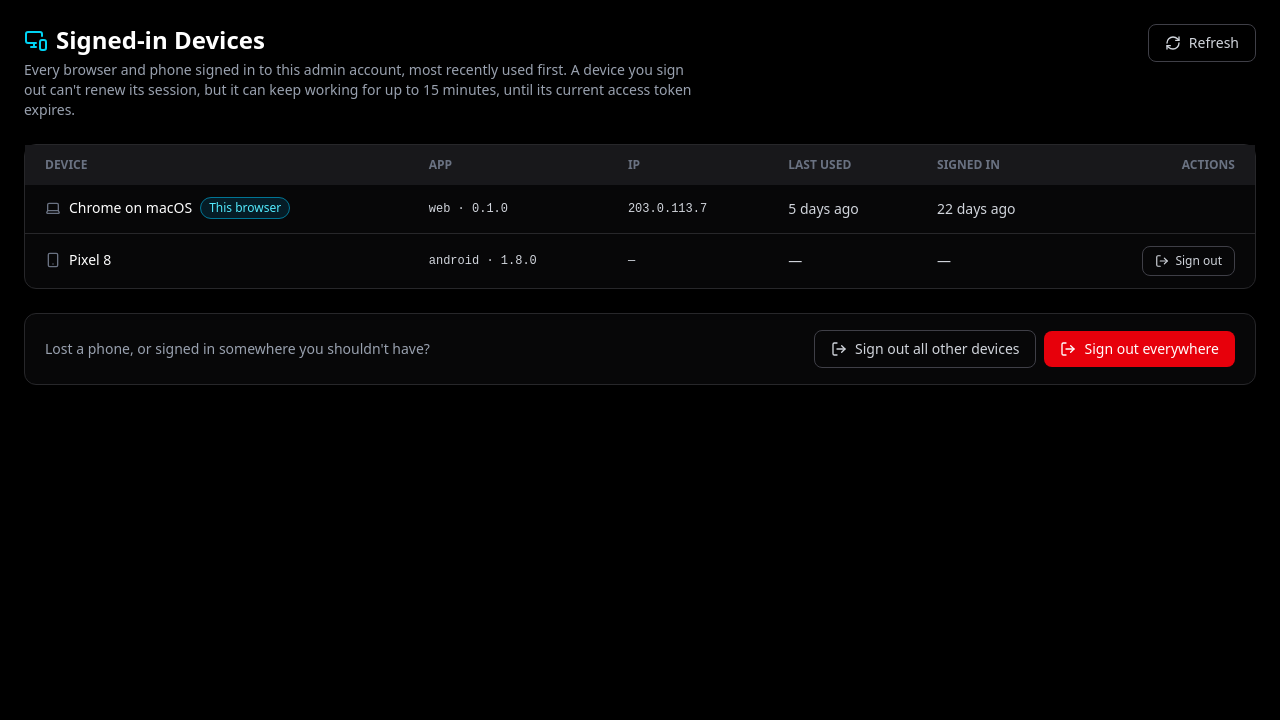
Test case: DevicesSection › can back out of signing a device out
Click the button with aria-label "Sign out Pixel 8".
click(1189, 261)  # box [1142,246,1235,276]
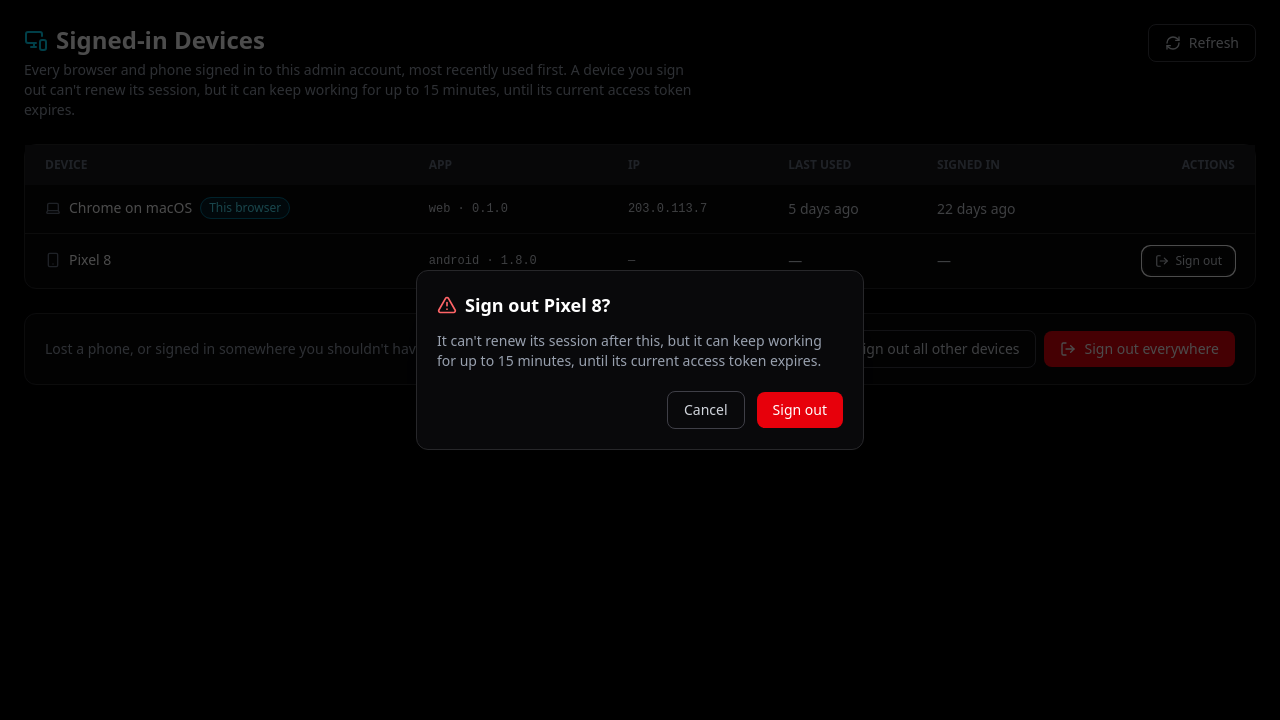
Click the button "Cancel".
click(706, 410)  # box [667,391,745,429]
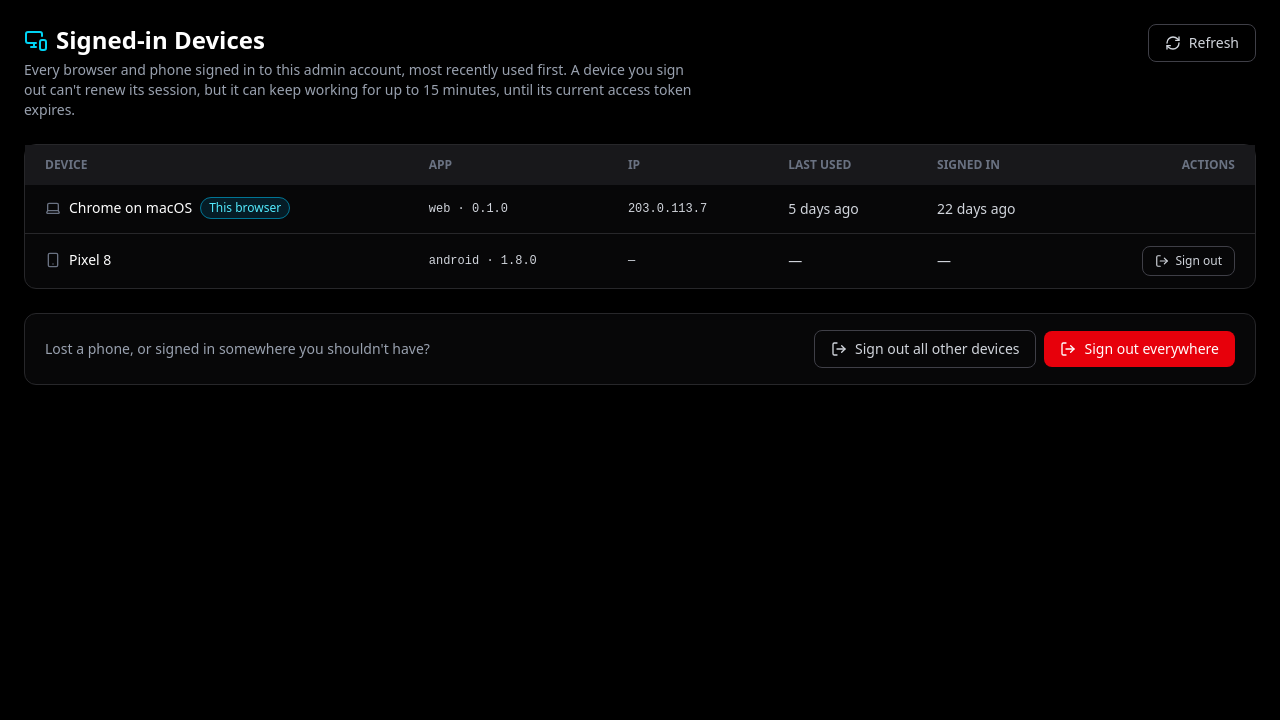
expect the dialog is gone: met
